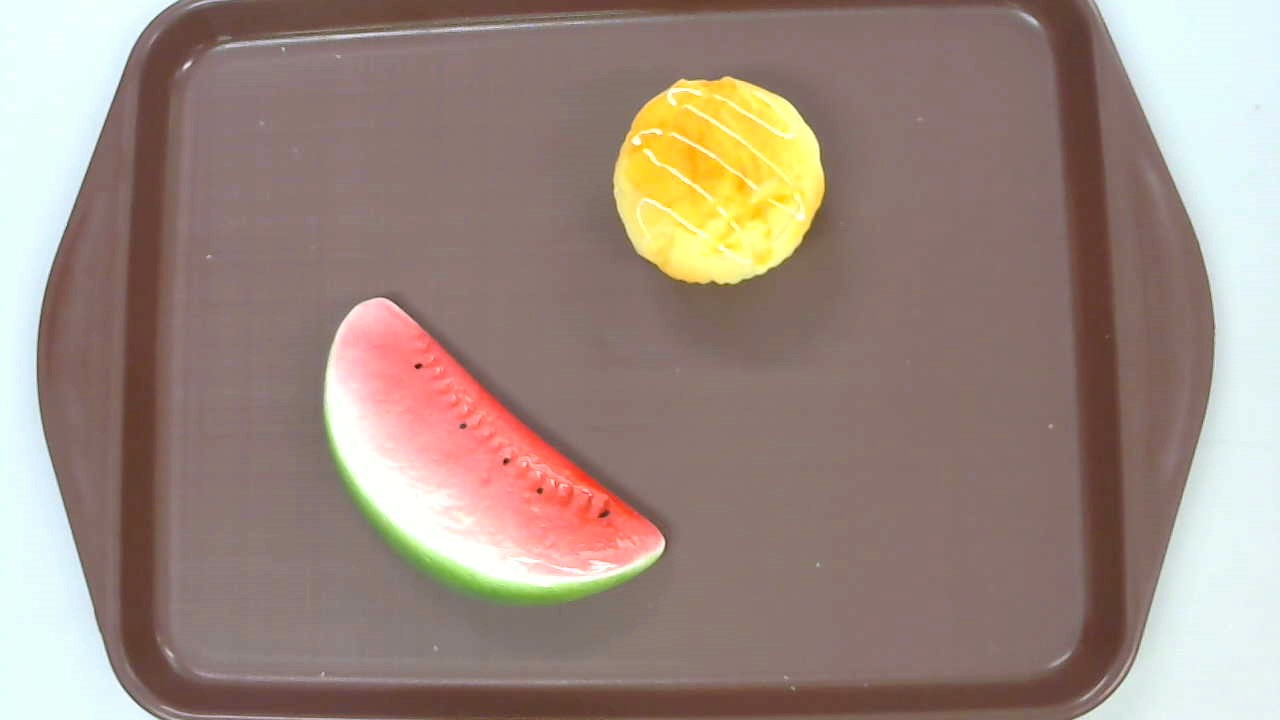cupcake: (612, 75, 825, 289)
water melon: (318, 298, 669, 607)
